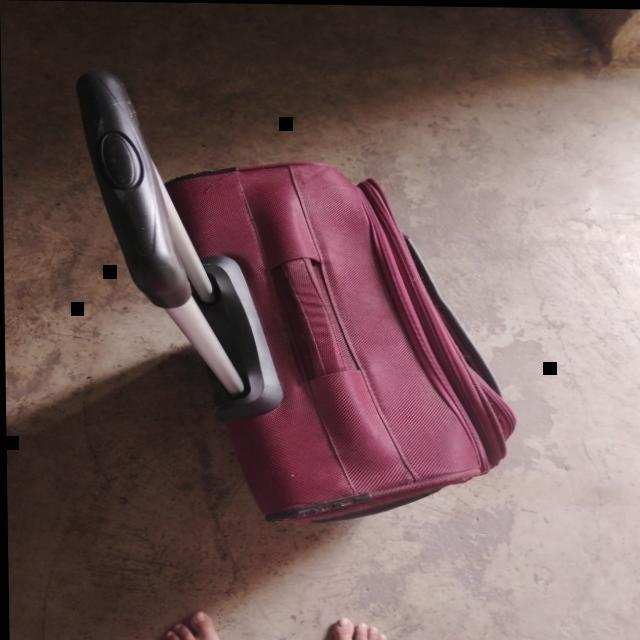luggage: (164, 162, 516, 523)
